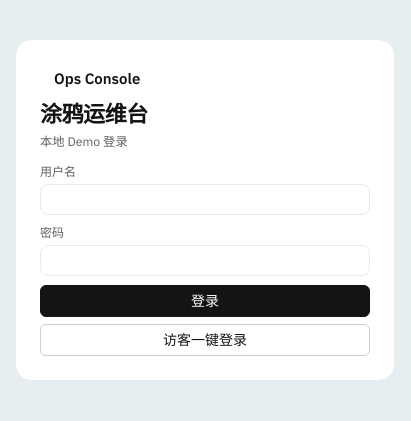
LoginPage › shows a readable error and does not store a token when guest login fails
Click the button "访客一键登录": (205,340) [40,324,370,356]
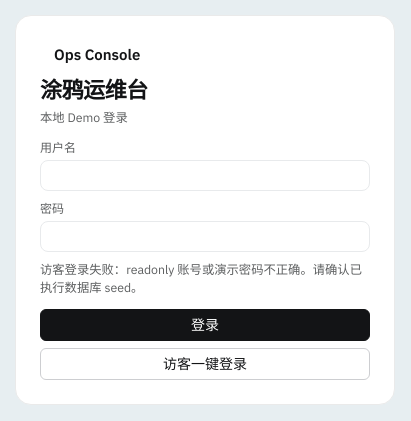
Check: the field labelled "用户名" is empty, box [40,160,370,191]
Check: the text "访客登录失败：readonly 账号或演示密码不正确。请确认已执行数据库 seed。" is shown, box [40,261,370,297]
